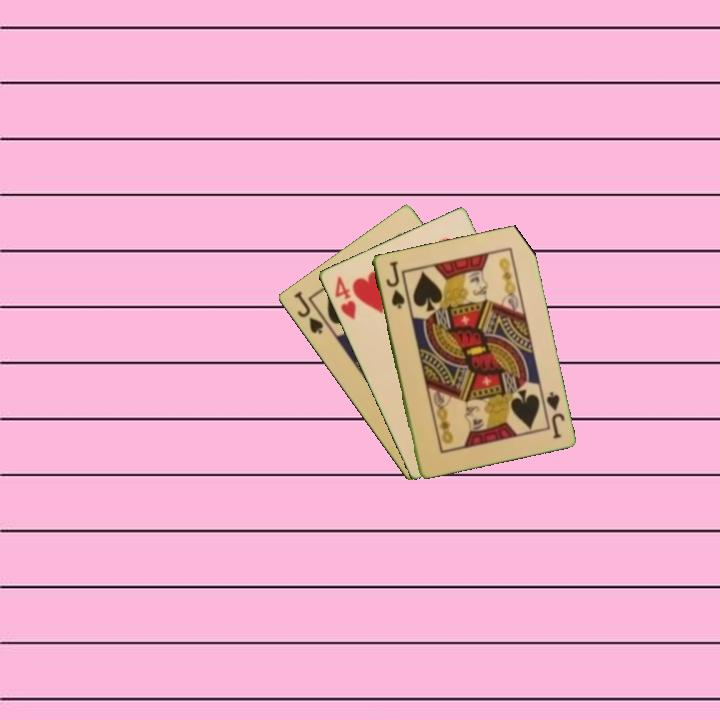4h: (331, 272, 359, 322)
Js: (290, 287, 326, 337), (382, 258, 407, 311), (542, 388, 567, 441)
